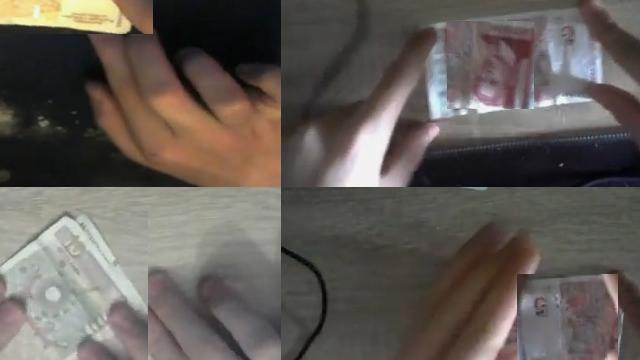10leva: (0, 211, 148, 360)
5leva: (445, 19, 547, 110), (519, 274, 623, 360), (517, 274, 618, 360), (447, 21, 534, 109)
